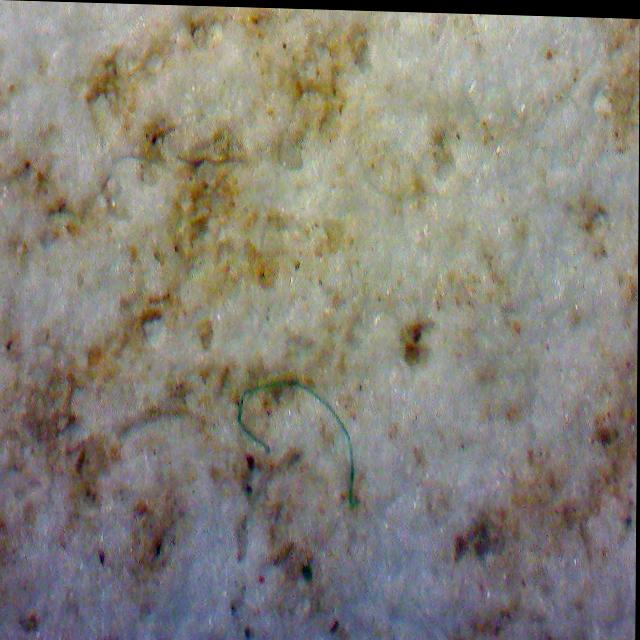microplastic: (238, 378, 354, 500)
